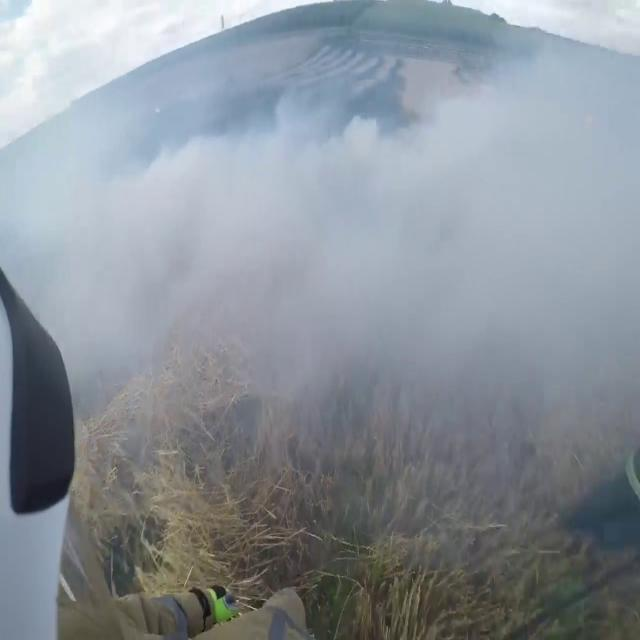Smoke: (54, 1, 640, 596)
